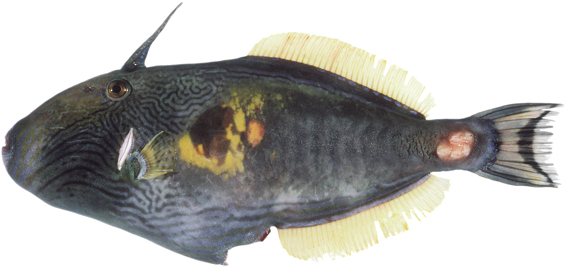fish: (1, 1, 562, 267)
